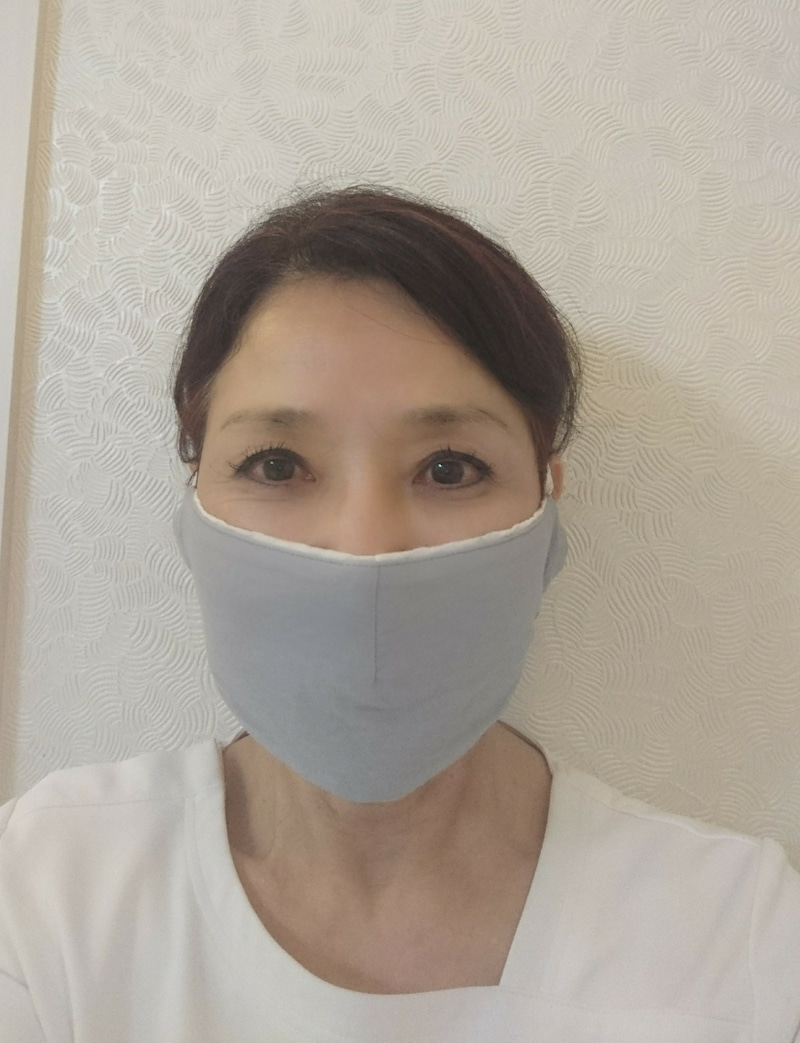mask: (187, 506, 549, 802)
